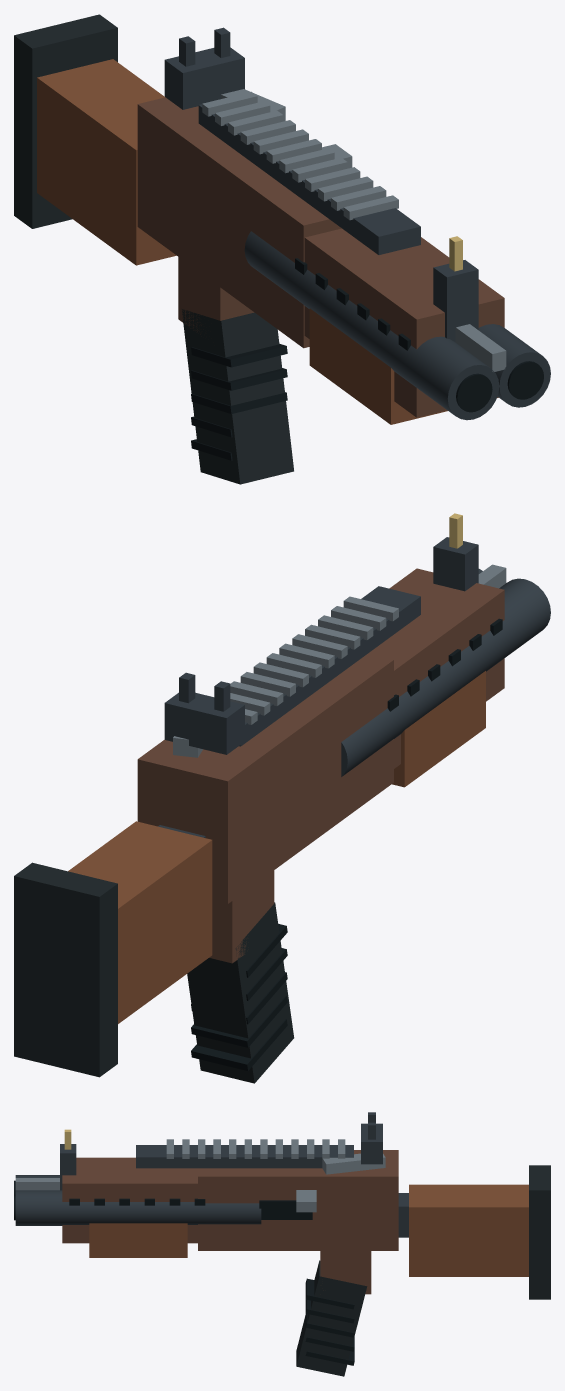
Rendered from shotgun_02_breaker.glb.
3 renders of one model, top to bottom at view 1: azimuth 30°, elevation 25°; view 2: azimuth 150°, elevation 25°; view 3: azimuth 270°, elevation 25°, orthographic. The views are drawn at different scales.
Visible parts, largest first — view 1: receiver, stock_body, grip, handguard, double_barrel_L, buttpad, wood_foreend, upper_rail, rear_sight_base, front_sight_base, grip_tang, double_barrel_R (+18 smaller); view 2: receiver, buttpad, stock_body, grip, handguard, double_barrel_L, wood_foreend, upper_rail, rear_sight_base, grip_tang, front_sight_base, grip_rib_0 (+11 smaller); view 3: receiver, stock_body, double_barrel_R, handguard, grip, upper_rail, wood_foreend, buttpad, grip_tang, ejection_port, rear_sight_base, break_lever (+5 smaller).
Part boxes in pixels (<box>): receiver: <box>137,97,341,348</box>; stock_body: <box>37,59,176,265</box>; grip: <box>182,309,293,484</box>; handguard: <box>304,228,504,417</box>; double_barrel_L: <box>244,231,499,420</box>; buttpad: <box>14,14,117,228</box>; wood_foreend: <box>309,308,447,424</box>; upper_rail: <box>198,104,420,254</box>; rear_sight_base: <box>164,47,244,109</box>; front_sight_base: <box>433,260,478,341</box>; grip_tang: <box>178,257,254,336</box>; double_barrel_R: <box>478,324,550,407</box>; receiver: <box>137,653,393,903</box>; buttpad: <box>14,862,117,1077</box>; stock_body: <box>68,821,212,1023</box>; grip: <box>187,902,294,1083</box>; handguard: <box>368,568,504,768</box>; double_barrel_L: <box>341,578,550,776</box>; wood_foreend: <box>392,671,485,787</box>; upper_rail: <box>239,586,420,746</box>; rear_sight_base: <box>164,692,244,754</box>; grip_tang: <box>209,870,274,963</box>; front_sight_base: <box>433,537,478,591</box>; grip_rib_0: <box>191,1019,287,1070</box>; receiver: <box>198,1150,398,1250</box>; stock_body: <box>409,1184,528,1276</box>; double_barrel_R: <box>15,1190,261,1225</box>; handguard: <box>62,1157,197,1243</box>; grip: <box>296,1260,367,1376</box>; upper_rail: <box>136,1145,353,1168</box>; wood_foreend: <box>89,1223,187,1257</box>; buttpad: <box>529,1165,550,1299</box>; grip_tang: <box>320,1251,371,1294</box>; ejection_port: <box>259,1200,312,1219</box>; rear_sight_base: <box>361,1123,382,1164</box>; break_lever: <box>322,1153,385,1174</box>.
Size of the model in its own units: 0.1165 by 0.3366 by 0.6555.
